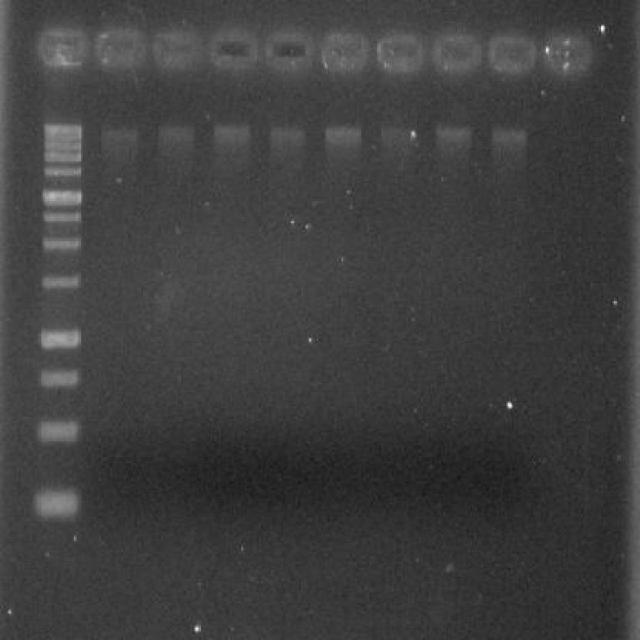B: (318, 119, 364, 152), (486, 121, 532, 154), (432, 118, 476, 150), (209, 118, 254, 147), (152, 120, 198, 148), (264, 120, 310, 148), (375, 123, 420, 149), (100, 125, 142, 147)
L: (28, 14, 610, 86)
M: (24, 107, 94, 530)
P: (31, 483, 86, 525), (34, 416, 82, 450), (36, 364, 81, 393), (38, 324, 82, 353), (40, 270, 82, 296), (41, 184, 82, 210), (40, 233, 82, 252), (42, 120, 84, 138), (41, 208, 82, 226), (42, 163, 84, 180), (42, 138, 84, 152), (42, 150, 84, 162)
Pc: (94, 21, 148, 77), (262, 24, 318, 78), (430, 26, 484, 79), (374, 28, 428, 80), (34, 23, 91, 72), (208, 23, 260, 74), (152, 23, 202, 76), (486, 28, 539, 78), (542, 31, 596, 80), (319, 28, 373, 76)
